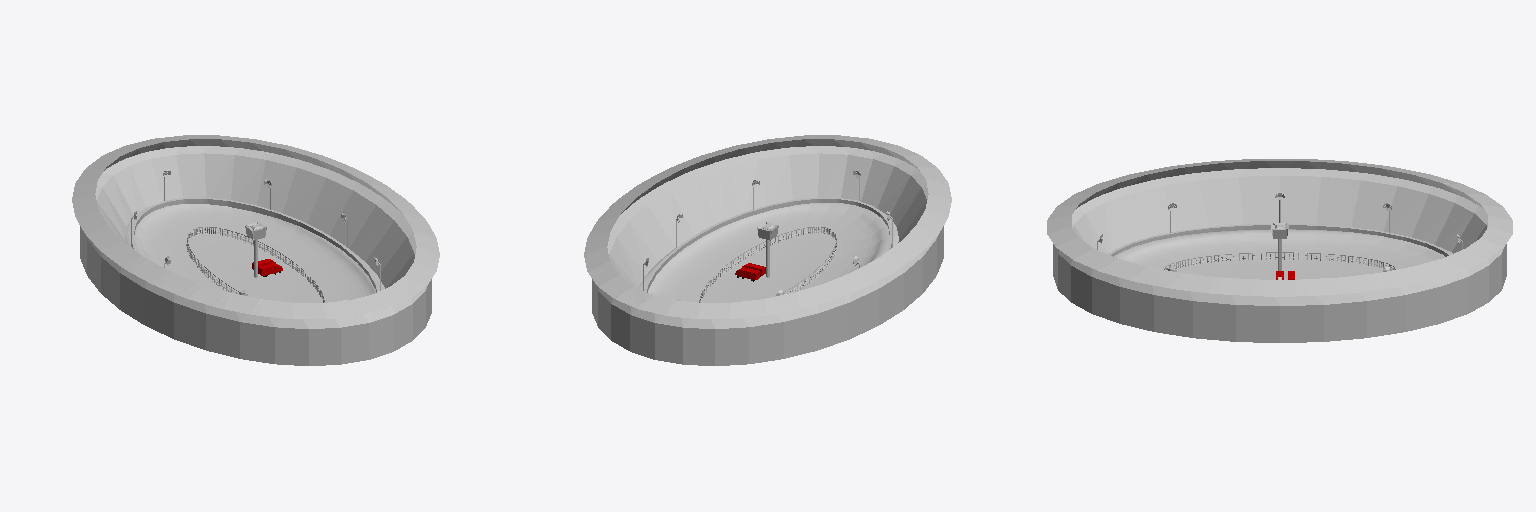
The model's file is Stade_et_pisteV4.obj.
The picture shows the model from 3 angles: view 1: azimuth 30°, elevation 25°; view 2: azimuth 150°, elevation 25°; view 3: azimuth 270°, elevation 25°; orthographic projection.
Visible parts, largest first — view 1: Stade, Piste, Barriere; view 2: Stade, Piste, Barriere; view 3: Stade, Piste, Barriere.
Part boxes in pixels (left/top/right/bottom): Stade: left=72, top=135, right=439, bottom=365; Piste: left=125, top=204, right=384, bottom=302; Barriere: left=186, top=227, right=324, bottom=302; Stade: left=584, top=135, right=951, bottom=365; Piste: left=638, top=203, right=898, bottom=302; Barriere: left=699, top=227, right=837, bottom=302; Stade: left=1047, top=159, right=1512, bottom=342; Piste: left=1109, top=229, right=1452, bottom=279; Barriere: left=1164, top=252, right=1395, bottom=269.
Size of the model in its own units: 22.35 by 5.4 by 31.9.